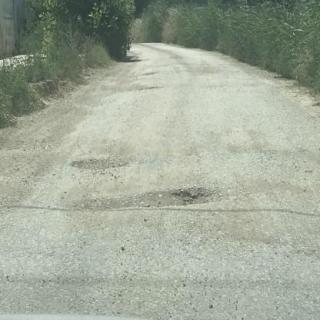pothole: (86, 188, 217, 211), (68, 156, 130, 172)
